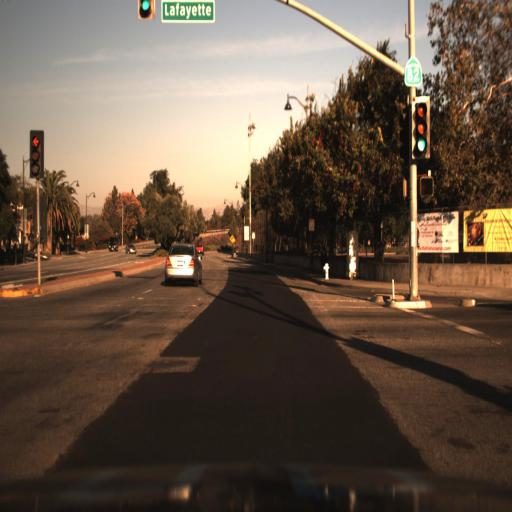car: (162, 240, 204, 291), (105, 231, 120, 256), (122, 242, 138, 260)
